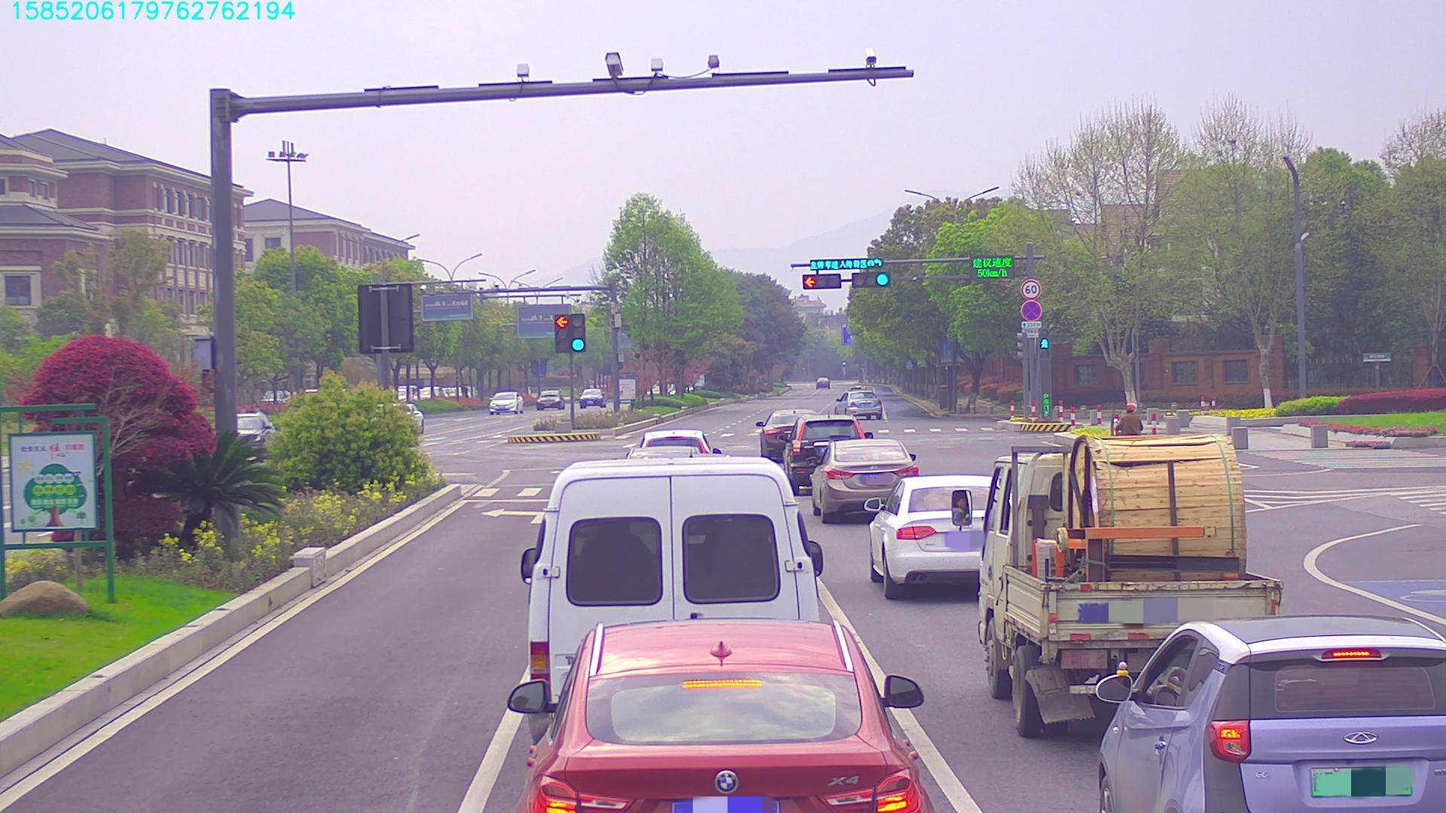green: (851, 273, 893, 286)
red: (804, 273, 841, 292)
wait_on: (817, 261, 882, 271)
